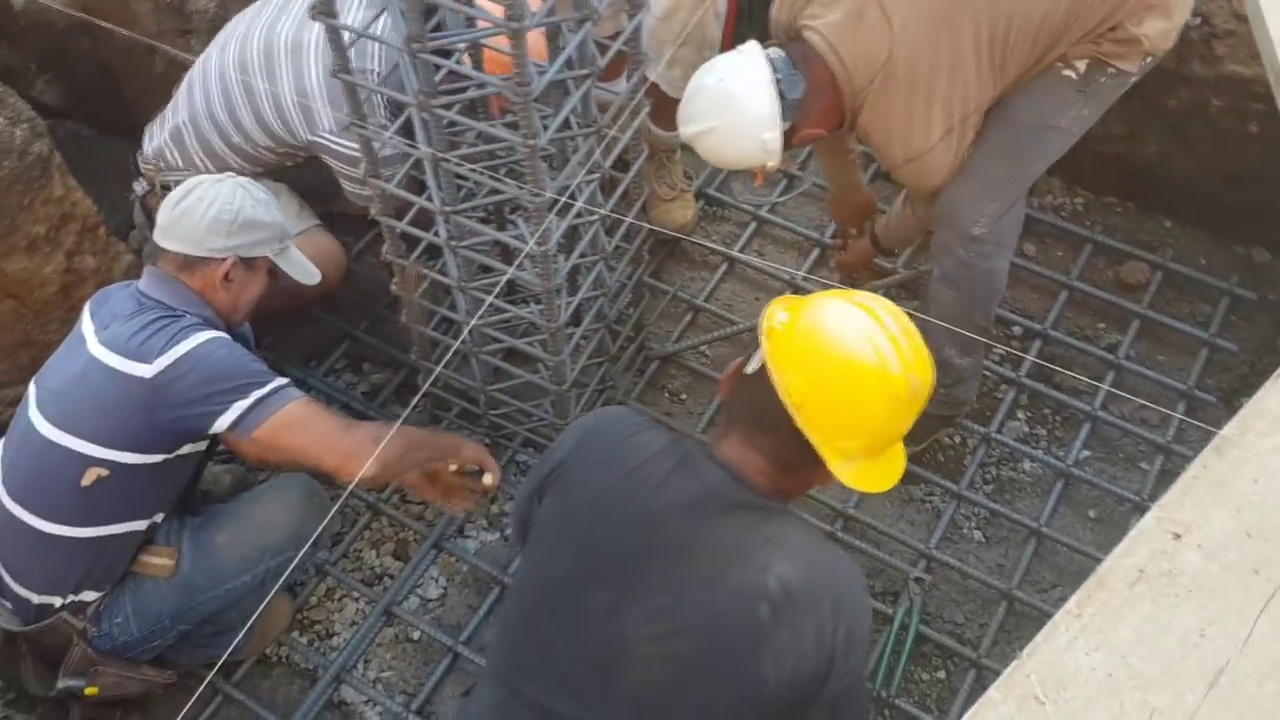helmet: (756, 288, 937, 494), (679, 40, 802, 183), (464, 0, 552, 130)
helmet-off: (136, 171, 334, 328)
helmet-on: (710, 286, 933, 499), (674, 28, 847, 195), (411, 2, 555, 128)
person: (11, 144, 522, 684), (695, 0, 1242, 397), (457, 297, 924, 699), (135, 0, 498, 294), (544, 13, 664, 250)
